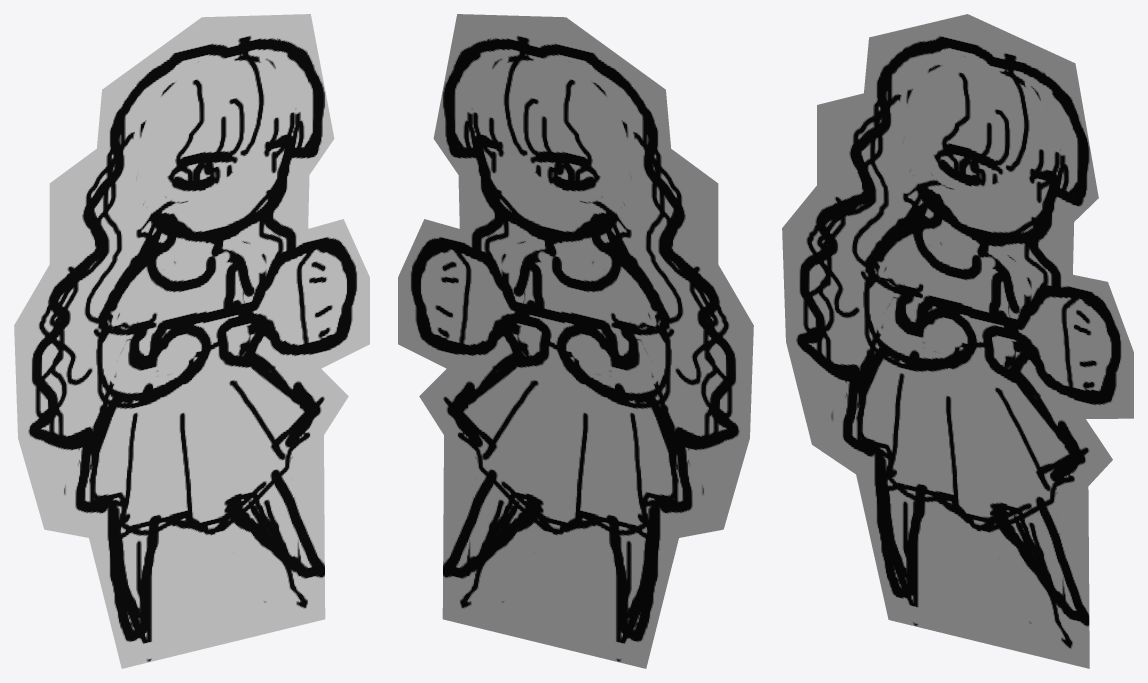
Rendered from player.fbx.
3 views of the same model, side by side, from view 1: azimuth 30°, elevation 25°; view 2: azimuth 150°, elevation 25°; view 3: azimuth 330°, elevation 25° (orthographic).
Visible parts, largest first — view 1: Plane.005; view 2: Plane.005; view 3: Plane.005.
Part boxes in pixels (x1,y1,x2,y2): Plane.005: [14, 14, 369, 668]; Plane.005: [398, 14, 753, 668]; Plane.005: [782, 14, 1133, 668].
Bounding box in the file's own units: 245 × 416 × 7.67e-05.
